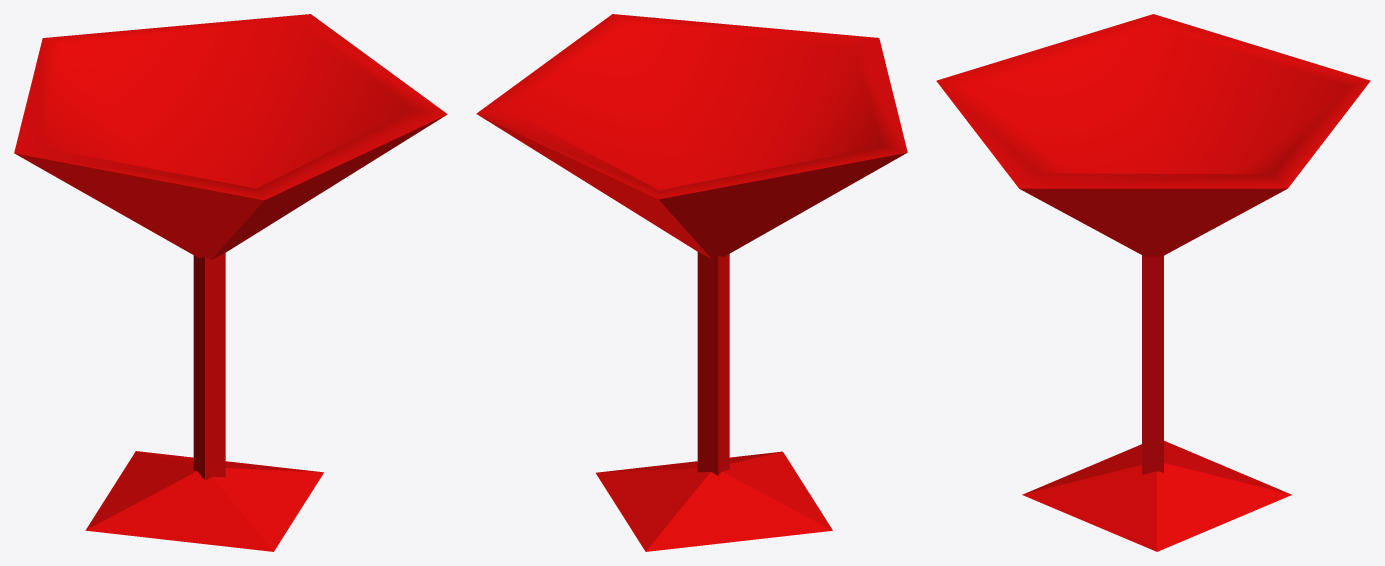
File: cocktailglas_FBX.fbx
3 views of the same model, side by side, from view 1: azimuth 30°, elevation 25°; view 2: azimuth 150°, elevation 25°; view 3: azimuth 270°, elevation 25° (orthographic). The views are drawn at different scales.
Visible parts, largest first — view 1: pPyramid4, pPyramid3, pCube106; view 2: pPyramid4, pPyramid3, pCube106; view 3: pPyramid4, pPyramid3, pCube106.
Part boxes in pixels (bbox=[...]): pPyramid4: bbox=[14, 14, 447, 259]; pPyramid3: bbox=[85, 451, 323, 551]; pCube106: bbox=[193, 252, 225, 480]; pPyramid4: bbox=[476, 14, 907, 258]; pPyramid3: bbox=[596, 451, 832, 551]; pCube106: bbox=[697, 252, 729, 475]; pPyramid4: bbox=[936, 14, 1370, 256]; pPyramid3: bbox=[1022, 440, 1291, 551]; pCube106: bbox=[1142, 255, 1163, 474].
Bounding box in the file's own units: 0.3312 × 0.3474 × 0.3483.
